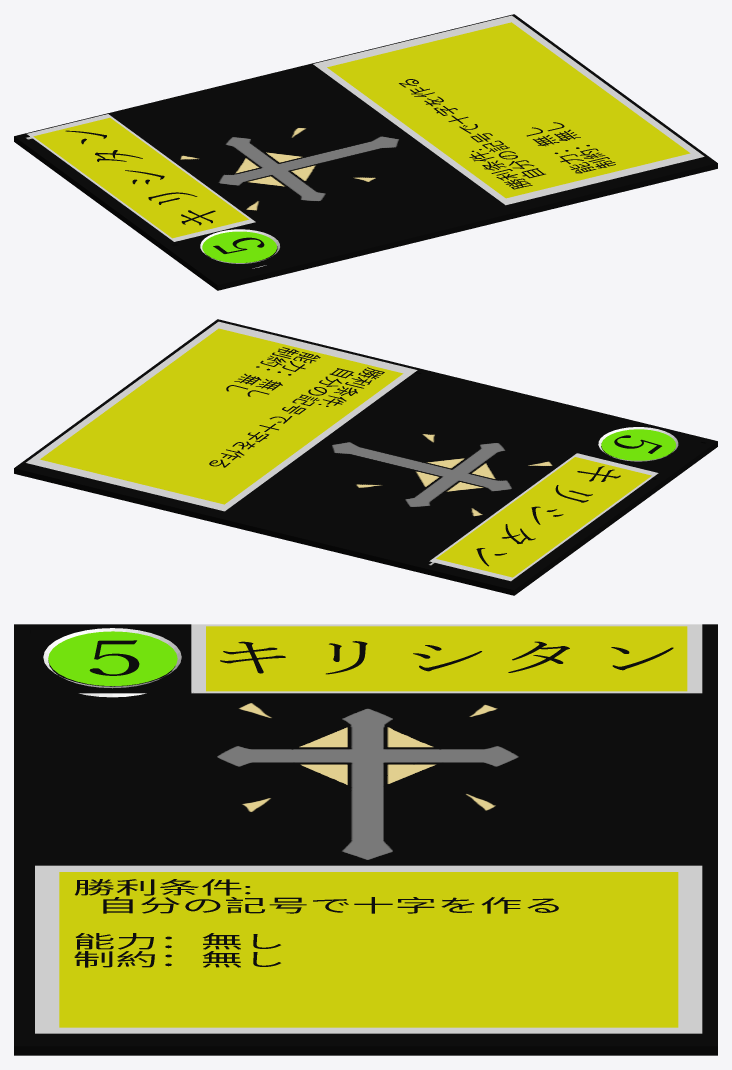
Rendered from キリシタン黒.fbx.
3 renders of one model, top to bottom at view 1: azimuth 30°, elevation 25°; view 2: azimuth 150°, elevation 25°; view 3: azimuth 270°, elevation 25°, orthographic. The views are drawn at different scales.
Parts seen in each view (by area): view 1: カード本体.001, 説明欄, 名前欄, 平面.001, 説明文, 円, 平面, 名前; view 2: カード本体.001, 説明欄, 名前欄, 平面.001, 説明文, 円, 平面, 名前; view 3: カード本体.001, 説明欄, 名前欄, 平面.001, 説明文, 平面, 円, 名前, コスト蘭.
Part boxes in pixels (box(x1,y1,x2,y2)): カード本体.001: box(14, 14, 717, 290); 説明欄: box(313, 15, 704, 205); 名前欄: box(27, 114, 255, 241); 平面.001: box(178, 127, 400, 211); 説明文: box(399, 79, 615, 189); 円: box(202, 231, 276, 262); 平面: box(174, 222, 302, 275); 名前: box(65, 130, 215, 225); カード本体.001: box(14, 319, 717, 595); 説明欄: box(26, 321, 417, 511); 名前欄: box(429, 453, 658, 581); 平面.001: box(330, 433, 554, 516); 説明文: box(209, 347, 384, 467); 円: box(601, 429, 675, 460); 平面: box(577, 419, 704, 472); 名前: box(476, 466, 620, 566); カード本体.001: box(14, 624, 717, 1055); 説明欄: box(35, 865, 702, 1033); 名前欄: box(191, 624, 702, 693); 平面.001: box(212, 700, 523, 861); 説明文: box(74, 879, 558, 967); 平面: box(30, 624, 191, 693); 円: box(48, 631, 177, 686); 名前: box(220, 641, 673, 674); コスト蘭: box(43, 628, 181, 697).
Size of the model in its own units: 281 by 6.07 by 198.
